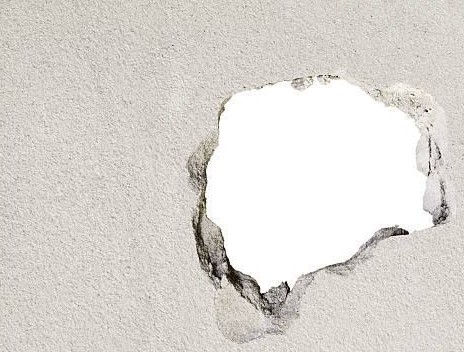Spalling: (183, 73, 451, 320)
